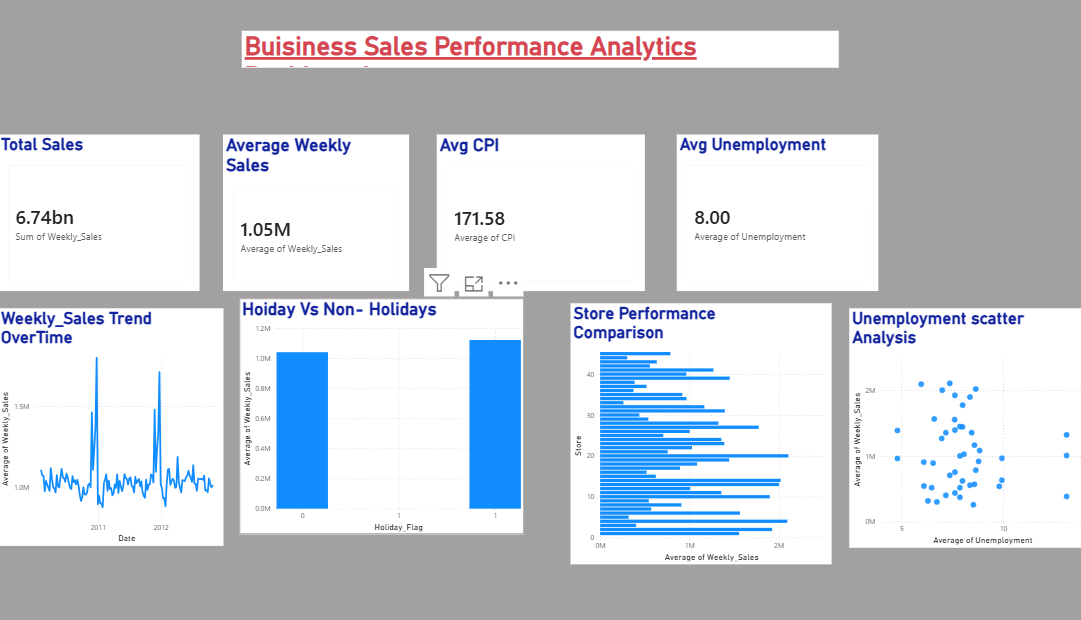

Layout of this report page (visuals, bound fields, positions):
{"tool":"powerbi","page":{"name":"Page 1","canvas":[1920,1080],"ordinal":0},"visuals":[{"type":"cardVisual","title":"Total Sales","fields":{"Data":["Sum(Walmart_Sales.Weekly_Sales)"]},"box":[34.7,242.9,344.4,267],"z":1},{"type":"cardVisual","title":"Average Weekly Sales","fields":{"Data":["Avg(Walmart_Sales.Weekly_Sales)"]},"box":[419.1,242.9,317.7,267],"z":2},{"type":"cardVisual","title":"Avg CPI","fields":{"Data":["Avg(Walmart_Sales.CPI)"]},"box":[782.2,242.9,355.1,267],"z":3},{"type":"cardVisual","title":"Avg Unemployment","fields":{"Data":["Avg(Walmart_Sales.Unemployment)"]},"box":[1193.3,242.9,344.4,267],"z":4},{"type":"lineChart","title":"Weekly_Sales Trend OverTime","fields":{"Category":["Walmart_Sales.Date"],"Y":["Avg(Walmart_Sales.Weekly_Sales)"]},"box":[34.7,539.3,384.4,405.8],"z":5},{"type":"clusteredColumnChart","title":"Hoiday Vs Non- Holidays","fields":{"Category":["Walmart_Sales.Holiday_Flag"],"Y":["Avg(Walmart_Sales.Weekly_Sales)"]},"box":[445.8,523.3,485.9,403.1],"z":6},{"type":"clusteredBarChart","title":"Store Performance Comparison","fields":{"Category":["Walmart_Sales.Store"],"Y":["Avg(Walmart_Sales.Weekly_Sales)"]},"box":[1011.8,531.3,445.8,445.8],"z":7},{"type":"scatterChart","title":"Unemployment scatter Analysis","fields":{"Category":["Walmart_Sales.Store"],"X":["Avg(Walmart_Sales.Unemployment)"],"Y":["Avg(Walmart_Sales.Weekly_Sales)"]},"box":[1487,539.3,413.8,408.5],"z":8},{"type":"textbox","title":"Buisiness Sales Performance Analytics Dashboard","box":[450.1,66.1,1017.6,61.9],"z":10}]}

Visuals, with their boxes in screenshot pixels (x1, y1, x2, y2), scaled from the page's 1920x1080 canvas onto the 1081x620 screenshot:
"Total Sales" cardVisual: 20, 139, 213, 293
"Average Weekly Sales" cardVisual: 236, 139, 415, 293
"Avg CPI" cardVisual: 440, 139, 640, 293
"Avg Unemployment" cardVisual: 672, 139, 866, 293
"Weekly_Sales Trend OverTime" lineChart: 20, 310, 236, 543
"Hoiday Vs Non- Holidays" clusteredColumnChart: 251, 300, 525, 532
"Store Performance Comparison" clusteredBarChart: 570, 305, 821, 561
"Unemployment scatter Analysis" scatterChart: 837, 310, 1070, 544
"Buisiness Sales Performance Analytics Dashboard" textbox: 253, 38, 826, 73
